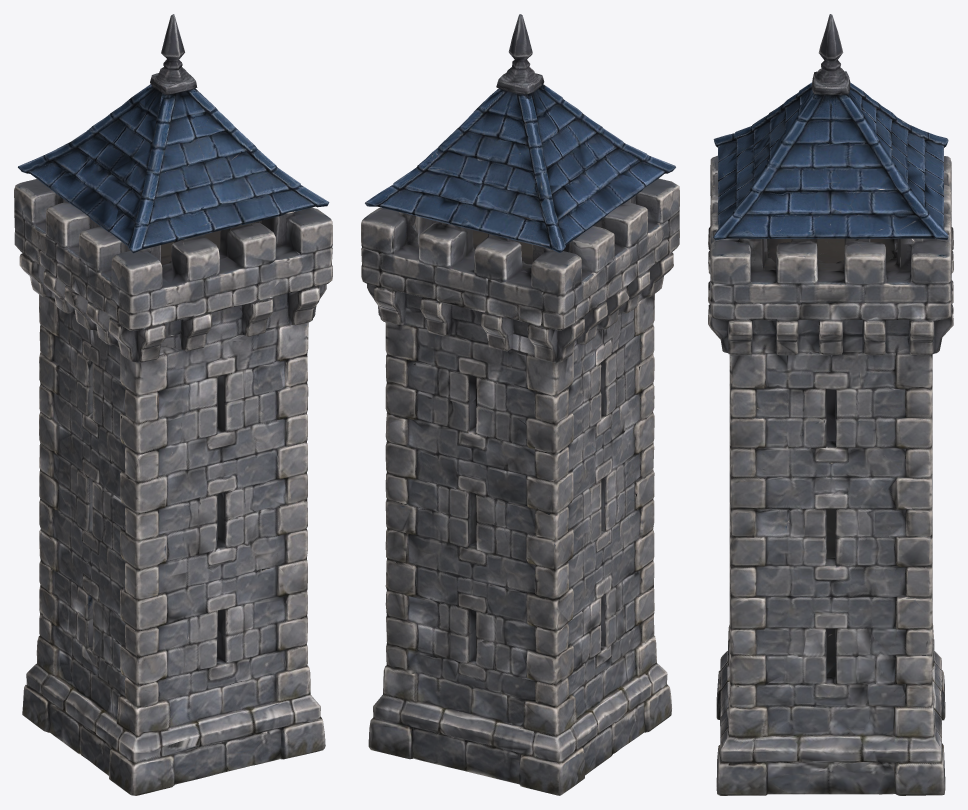
File: fort_m_arctic_tower.glb
3 views of the same model, side by side, from view 1: azimuth 30°, elevation 25°; view 2: azimuth 150°, elevation 25°; view 3: azimuth 270°, elevation 25° (orthographic). The views are drawn at different scales.
Parts seen in each view (by area): view 1: fort_m_arctic_tower; view 2: fort_m_arctic_tower; view 3: fort_m_arctic_tower.
Part boxes in pixels (left/top/right/bottom): fort_m_arctic_tower: left=14, top=14, right=332, bottom=795; fort_m_arctic_tower: left=361, top=14, right=679, bottom=795; fort_m_arctic_tower: left=708, top=14, right=953, bottom=795.
Size of the model in its own units: 0.576 by 1.9 by 0.5772.
Materials: 1 (1 with a texture image).
